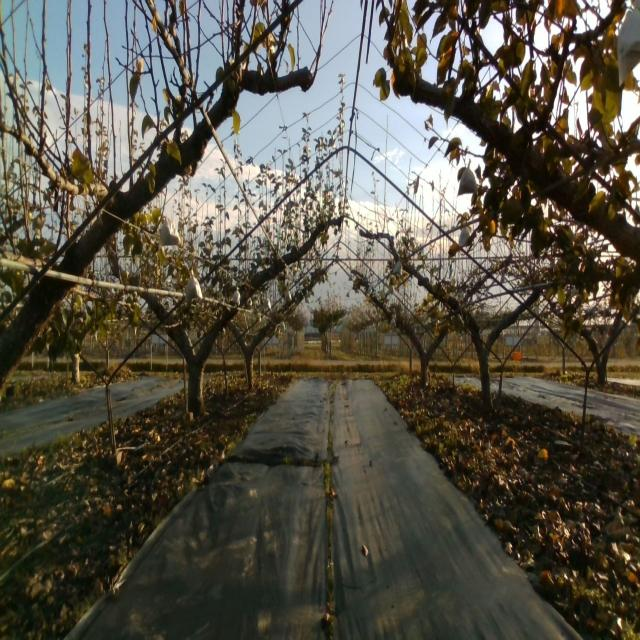pearbags: (616, 0, 640, 89), (158, 211, 182, 246), (456, 159, 478, 197), (185, 268, 203, 303), (459, 226, 472, 248)
